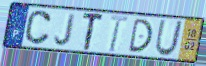C: (23, 9, 53, 47)
D: (127, 18, 154, 54)
J: (53, 12, 78, 47)
T: (81, 13, 106, 52), (108, 14, 129, 54)
U: (153, 19, 184, 58)
